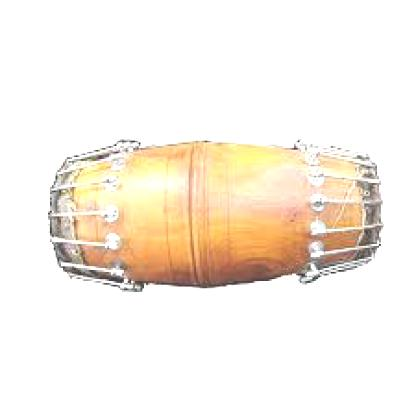Mridangam: (38, 123, 395, 299)
